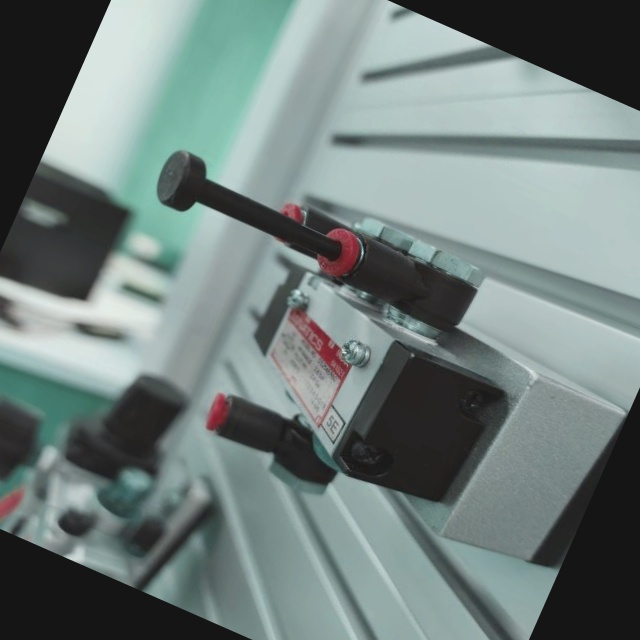5by2 DCV: (52, 112, 640, 610)
